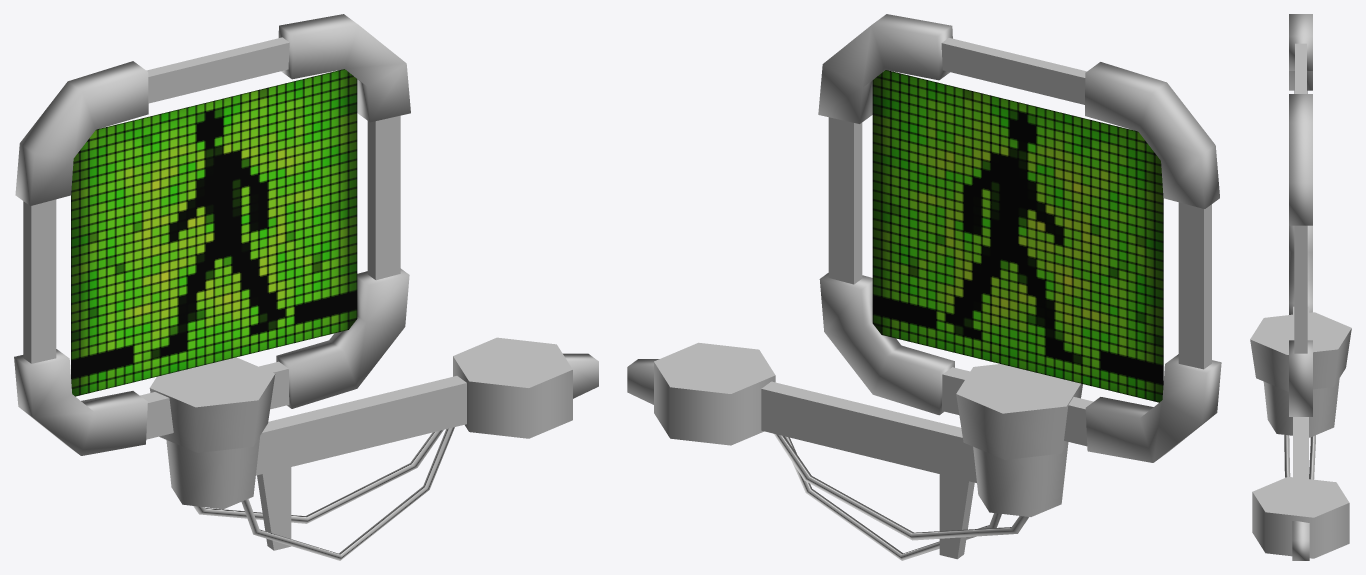
File: Streetlight2_LOD1.fbx
3 views of the same model, side by side, from view 1: azimuth 30°, elevation 25°; view 2: azimuth 150°, elevation 25°; view 3: azimuth 270°, elevation 25° (orthographic). The views are drawn at different scales.
Visible parts, largest first — view 1: polySurface305; view 2: polySurface305; view 3: polySurface305.
Part boxes in pixels (x1=…): polySurface305: x1=14, y1=14, x2=598, y2=560; polySurface305: x1=627, y1=14, x2=1221, y2=560; polySurface305: x1=1250, y1=14, x2=1351, y2=560.
Bounding box in the file's own units: 0.4785 × 0.4296 × 0.091.
